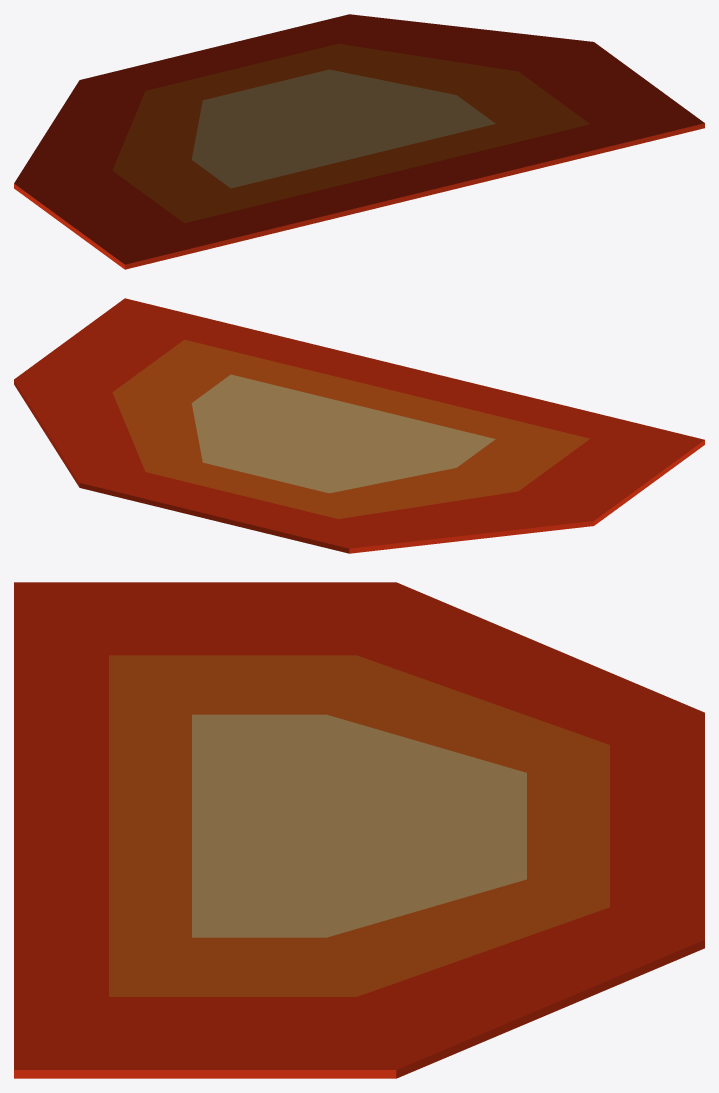
The picture shows the model from 3 angles, top to bottom: view 1: azimuth 30°, elevation 25°; view 2: azimuth 150°, elevation 25°; view 3: azimuth 270°, elevation 25°; orthographic projection. The views are drawn at different scales.
Parts seen in each view (by area): view 1: Mat; view 2: Mat; view 3: Mat.
Boxes of the visible parts, bbox=[...] form: Mat: bbox=[14, 14, 704, 269]; Mat: bbox=[14, 298, 704, 553]; Mat: bbox=[14, 582, 704, 1078].
Size of the model in its own units: 1.2 by 0.0166 by 2.
